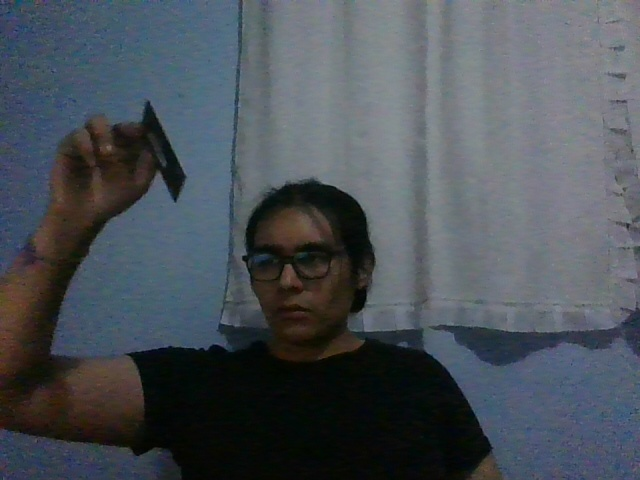tarjeta: (139, 99, 187, 204)
